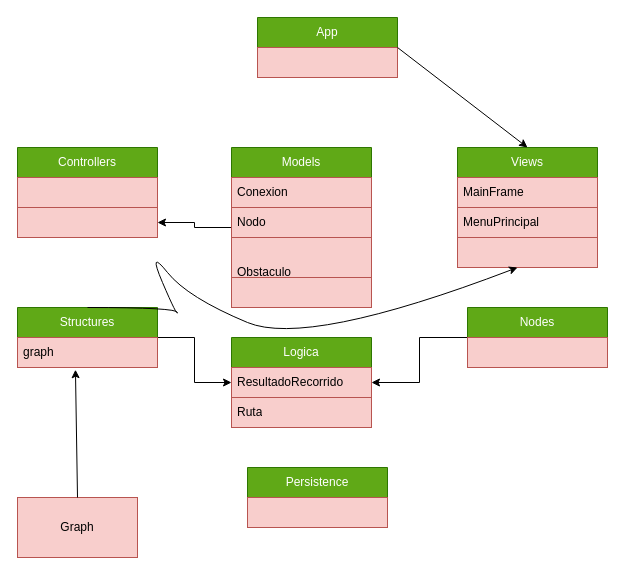
The diagram is 625 pixels wide and 575 high, and some of its shapes have lost their labels. The shapes that lost their labels are listed below. From the top down, each one's centre as x and y in pixels, then its label:
[327,62]: Ejecucion
[87,192]: EdicionController
[87,222]: EjecucionController
[527,252]: PanelMapa
[301,292]: ObstaculoConexion
[537,352]: Node
[317,512]: FileManager
